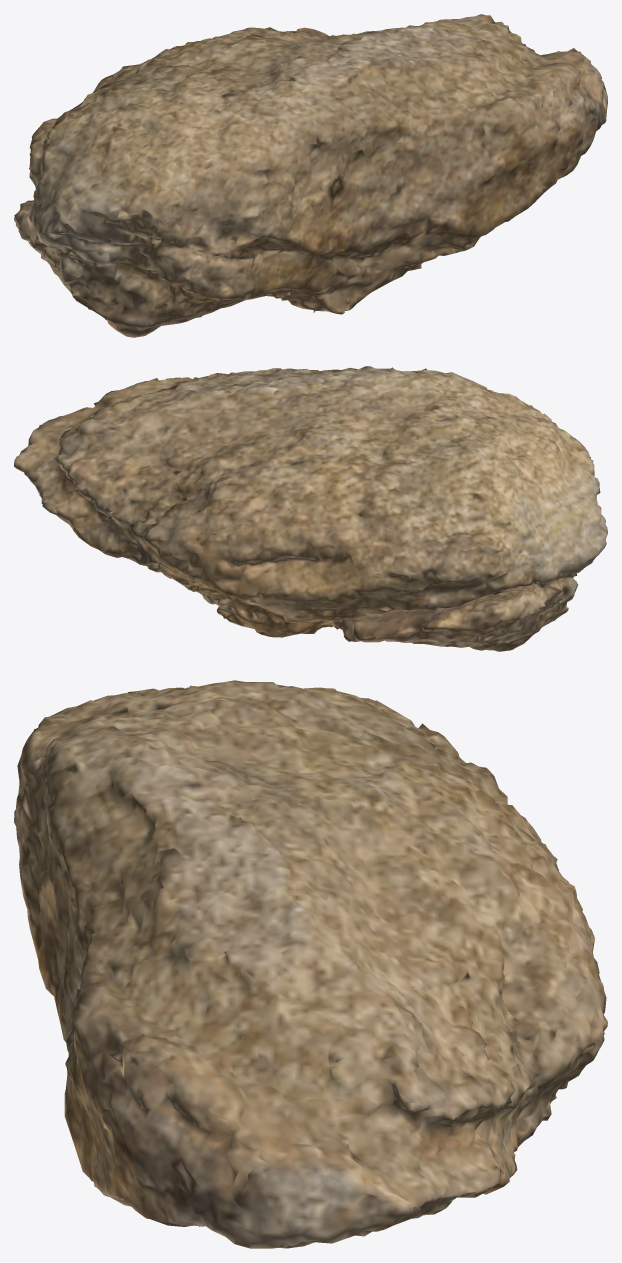
Rendered from namaqualand_boulder_05.e6d2fa9d2d.glb.
3 views of the same model, one above another, from view 1: azimuth 30°, elevation 25°; view 2: azimuth 150°, elevation 25°; view 3: azimuth 270°, elevation 25° (orthographic). The views are drawn at different scales.
Visible parts, largest first — view 1: namaqualand_boulder_05; view 2: namaqualand_boulder_05; view 3: namaqualand_boulder_05.
Part boxes in pixels (x1=…): namaqualand_boulder_05: x1=14, y1=14, x2=607, y2=337; namaqualand_boulder_05: x1=14, y1=366, x2=607, y2=651; namaqualand_boulder_05: x1=14, y1=680, x2=607, y2=1248.
Bounding box in the file's own units: 1.36 × 0.5384 × 0.7481.
Materials: 1 (1 with a texture image).
